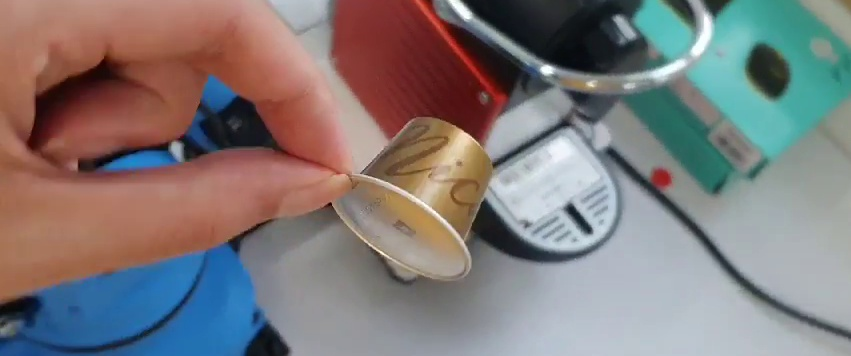capsule_9: (326, 114, 494, 284)
